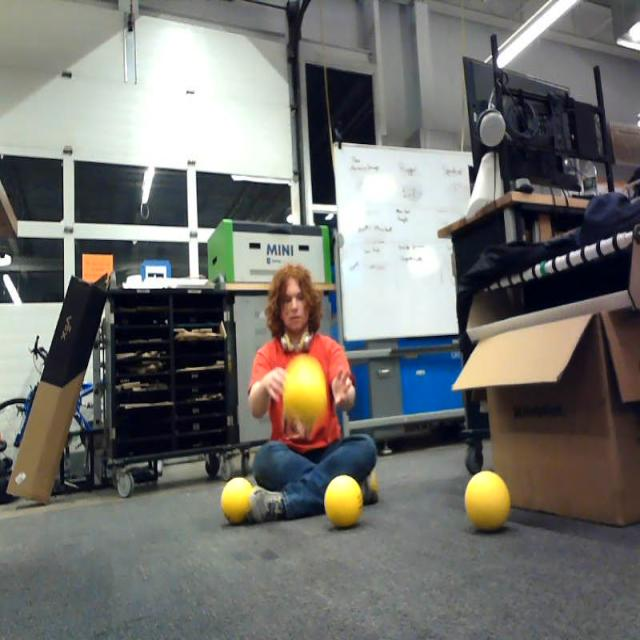Fuel: (465, 471, 511, 531), (284, 356, 326, 421), (324, 476, 363, 530), (222, 478, 254, 524)
